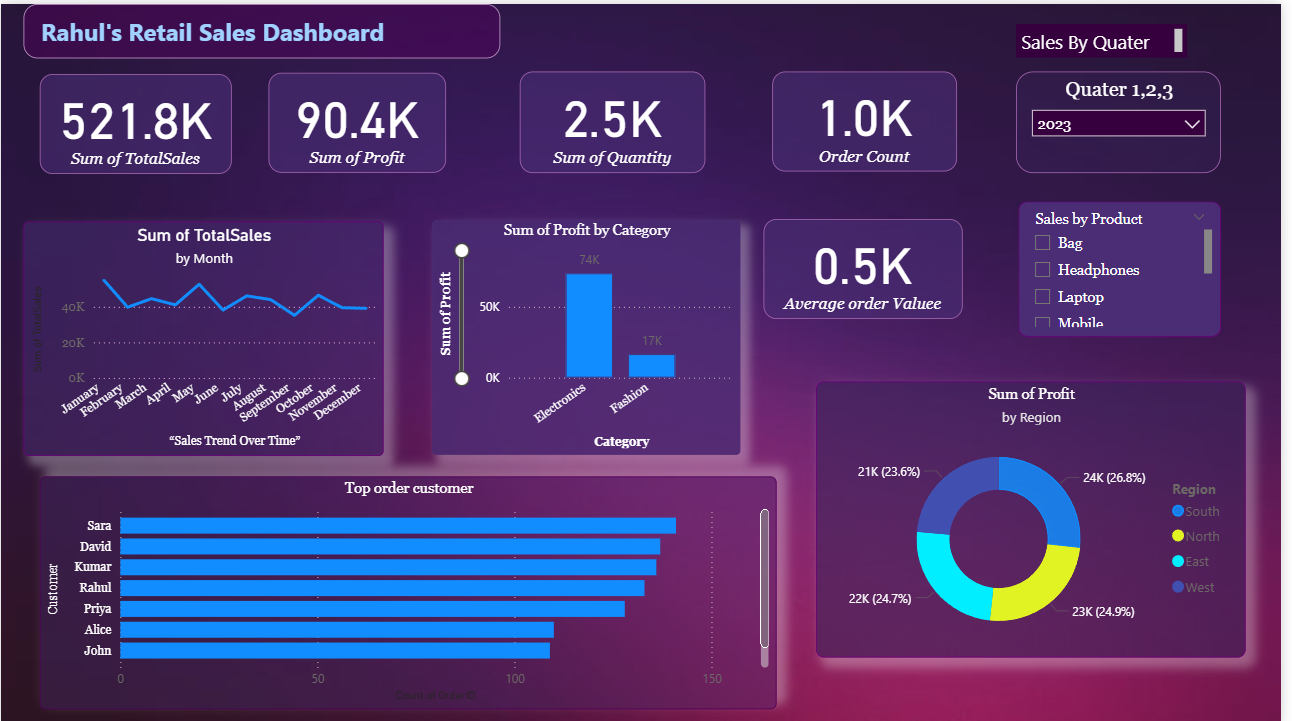

The page's visual inventory and layout, read from the dashboard file:
{"tool":"powerbi","page":{"name":"Page 1","canvas":[1280,720],"ordinal":0},"visuals":[{"type":"card","fields":{"Values":["Sheet1.TotalSales","select"]},"box":[38.6,70,191.8,100.1],"z":0},{"type":"card","fields":{"Values":["select","Sheet1.Profit"]},"box":[267.8,68.9,177.8,100],"z":1000},{"type":"card","fields":{"Values":["select","Sheet1.Quantity"]},"box":[518.8,67.6,185.8,101.3],"z":2000},{"type":"card","fields":{"Values":["select","Sheet1.Order Count"]},"box":[770.9,67.6,184.6,100.1],"z":3000},{"type":"textbox","box":[22.9,0,476.5,54.3],"z":4000},{"type":"slicer","title":"Quater 1,2,3","fields":{"Values":["Sheet1.Date.Variation.Date Hierarchy.Year","Sheet1.Date.Variation.Date Hierarchy.Quarter","Sheet1.Date.Variation.Date Hierarchy.Month","Sheet1.Date.Variation.Date Hierarchy.Day"]},"box":[1014.6,67.6,205.1,101.3],"z":5000},{"type":"card","fields":{"Values":["select","Sheet1.Average order Valuee"]},"box":[762.5,214.7,199.1,100.1],"z":6000},{"type":"textbox","box":[1014.6,20.5,171.3,33.8],"z":7000},{"type":"slicer","fields":{"Values":["Sheet1.Product"]},"box":[1017,197.9,202.7,135.1],"z":8000},{"type":"lineChart","fields":{"Category":["Sheet1.Date.Variation.Date Hierarchy.Month"],"Y":["Sheet1.TotalSales"]},"box":[22.9,217.1,360,234.3],"z":9000},{"type":"columnChart","fields":{"Category":["Sheet1.Category"],"Y":["Sheet1.Profit"]},"box":[431.1,216.7,307.8,234.4],"z":10000},{"type":"donutChart","fields":{"Category":["Sheet1.Region"],"Y":["Sheet1.Profit"]},"box":[815.6,377.6,429.5,276.3],"z":11000},{"type":"clusteredBarChart","title":"Top order customer ","fields":{"Y":["Sheet1.OrderID"],"Category":["Sheet1.Customer"]},"box":[38.6,472.9,737.1,232.8],"z":12000}]}

Visuals, with their boxes in screenshot pixels (x1, y1, x2, y2), scaled from the page's 1280x720 canvas onto the 1292x721 screenshot:
card - Sheet1.TotalSales x select: pyautogui.locateOnScreen(39, 70, 233, 170)
card - select x Sheet1.Profit: pyautogui.locateOnScreen(270, 69, 450, 169)
card - select x Sheet1.Quantity: pyautogui.locateOnScreen(524, 68, 711, 169)
card - select x Sheet1.Order Count: pyautogui.locateOnScreen(778, 68, 964, 168)
textbox: pyautogui.locateOnScreen(23, 0, 504, 54)
"Quater 1,2,3" slicer: pyautogui.locateOnScreen(1024, 68, 1231, 169)
card - select x Sheet1.Average order Valuee: pyautogui.locateOnScreen(770, 215, 971, 315)
textbox: pyautogui.locateOnScreen(1024, 21, 1197, 54)
slicer - Sheet1.Product: pyautogui.locateOnScreen(1027, 198, 1231, 333)
lineChart - Sheet1.Date.Variation.Date Hierarchy.Month x Sheet1.TotalSales: pyautogui.locateOnScreen(23, 217, 386, 452)
columnChart - Sheet1.Category x Sheet1.Profit: pyautogui.locateOnScreen(435, 217, 746, 452)
donutChart - Sheet1.Region x Sheet1.Profit: pyautogui.locateOnScreen(823, 378, 1257, 655)
"Top order customer " clusteredBarChart: pyautogui.locateOnScreen(39, 474, 783, 707)
